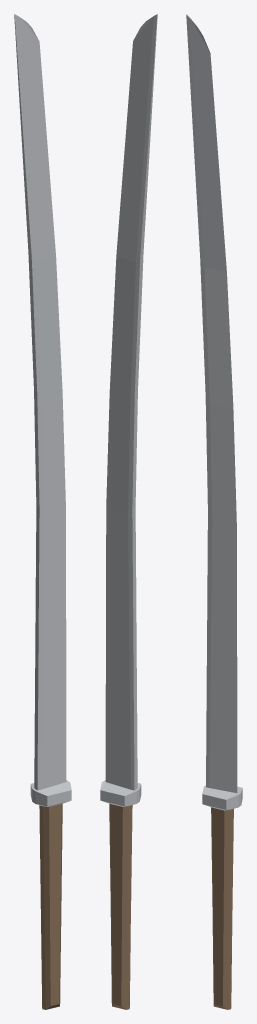
File: weapon_stormiron_blade.glb
3 renders of one model, left to right at view 1: azimuth 30°, elevation 25°; view 2: azimuth 150°, elevation 25°; view 3: azimuth 330°, elevation 25°, orthographic.
Visible parts, largest first — view 1: stormiron_blade; view 2: stormiron_blade; view 3: stormiron_blade.
Part boxes in pixels (bbox=[...]): stormiron_blade: bbox=[14, 14, 71, 1009]; stormiron_blade: bbox=[100, 14, 157, 1009]; stormiron_blade: bbox=[186, 14, 242, 1009].
Bounding box in the file's own units: 0.0652 × 1.15 × 0.0349.
